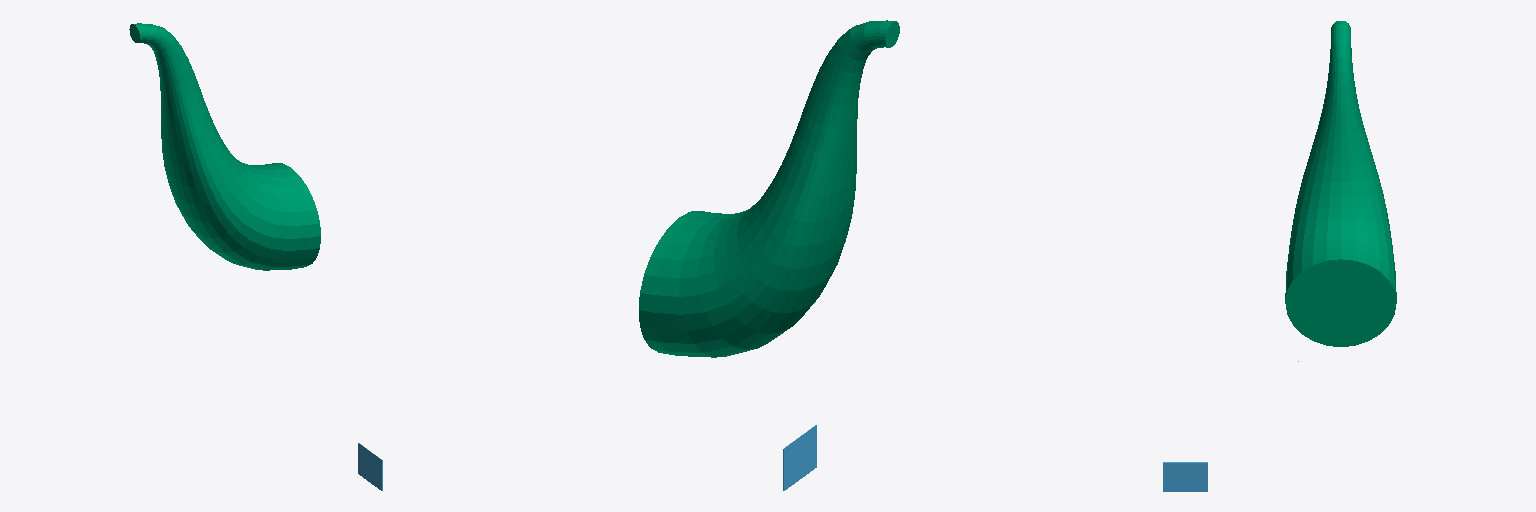
robot.urdf — partnet_c3bb5f3c842a6c2d178e7d331e641179:
<?xml version="1.0" ?>
<robot name="partnet_c3bb5f3c842a6c2d178e7d331e641179">
	<link name="microwave_base"/>
	<link name="microwave_door">
		<visual name="door_frame-6">
			<origin xyz="0.6430403380134146 0.42593899369239807 -0.5477944794777341"/>
			<geometry>
				<mesh filename="textured_objs/original-1.obj"/>
			</geometry>
		</visual>
		<visual name="door_frame-6">
			<origin xyz="0.6430403380134146 0.42593899369239807 -0.5477944794777341"/>
			<geometry>
				<mesh filename="textured_objs/original-8.obj"/>
			</geometry>
		</visual>
		<visual name="door_frame-6">
			<origin xyz="0.6430403380134146 0.42593899369239807 -0.5477944794777341"/>
			<geometry>
				<mesh filename="textured_objs/original-16.obj"/>
			</geometry>
		</visual>
		<visual name="door_frame-6">
			<origin xyz="0.6430403380134146 0.42593899369239807 -0.5477944794777341"/>
			<geometry>
				<mesh filename="textured_objs/original-9.obj"/>
			</geometry>
		</visual>
		<visual name="door_frame-6">
			<origin xyz="0.6430403380134146 0.42593899369239807 -0.5477944794777341"/>
			<geometry>
				<mesh filename="textured_objs/original-10.obj"/>
			</geometry>
		</visual>
		<visual name="door_frame-6">
			<origin xyz="0.6430403380134146 0.42593899369239807 -0.5477944794777341"/>
			<geometry>
				<mesh filename="textured_objs/original-11.obj"/>
			</geometry>
		</visual>
		<visual name="door_frame-6">
			<origin xyz="0.6430403380134146 0.42593899369239807 -0.5477944794777341"/>
			<geometry>
				<mesh filename="textured_objs/original-12.obj"/>
			</geometry>
		</visual>
		<visual name="door_frame-6">
			<origin xyz="0.6430403380134146 0.42593899369239807 -0.5477944794777341"/>
			<geometry>
				<mesh filename="textured_objs/original-13.obj"/>
			</geometry>
		</visual>
		<visual name="door_frame-6">
			<origin xyz="0.6430403380134146 0.42593899369239807 -0.5477944794777341"/>
			<geometry>
				<mesh filename="textured_objs/original-14.obj"/>
			</geometry>
		</visual>
		<visual name="door_frame-6">
			<origin xyz="0.6430403380134146 0.42593899369239807 -0.5477944794777341"/>
			<geometry>
				<mesh filename="textured_objs/original-15.obj"/>
			</geometry>
		</visual>
		<visual name="door_frame-6">
			<origin xyz="0.6430403380134146 0.42593899369239807 -0.5477944794777341"/>
			<geometry>
				<mesh filename="textured_objs/original-3.obj"/>
			</geometry>
		</visual>
		<visual name="glass-7">
			<origin xyz="0.6430403380134146 0.42593899369239807 -0.5477944794777341"/>
			<geometry>
				<mesh filename="textured_objs/original-6.obj"/>
			</geometry>
		</visual>
		<collision>
			<origin xyz="0.6430403380134146 0.42593899369239807 -0.5477944794777341"/>
			<geometry>
				<mesh filename="textured_objs/original-1.obj"/>
			</geometry>
		</collision>
		<collision>
			<origin xyz="0.6430403380134146 0.42593899369239807 -0.5477944794777341"/>
			<geometry>
				<mesh filename="textured_objs/original-8.obj"/>
			</geometry>
		</collision>
		<collision>
			<origin xyz="0.6430403380134146 0.42593899369239807 -0.5477944794777341"/>
			<geometry>
				<mesh filename="textured_objs/original-16.obj"/>
			</geometry>
		</collision>
		<collision>
			<origin xyz="0.6430403380134146 0.42593899369239807 -0.5477944794777341"/>
			<geometry>
				<mesh filename="textured_objs/original-9.obj"/>
			</geometry>
		</collision>
		<collision>
			<origin xyz="0.6430403380134146 0.42593899369239807 -0.5477944794777341"/>
			<geometry>
				<mesh filename="textured_objs/original-10.obj"/>
			</geometry>
		</collision>
		<collision>
			<origin xyz="0.6430403380134146 0.42593899369239807 -0.5477944794777341"/>
			<geometry>
				<mesh filename="textured_objs/original-11.obj"/>
			</geometry>
		</collision>
		<collision>
			<origin xyz="0.6430403380134146 0.42593899369239807 -0.5477944794777341"/>
			<geometry>
				<mesh filename="textured_objs/original-12.obj"/>
			</geometry>
		</collision>
		<collision>
			<origin xyz="0.6430403380134146 0.42593899369239807 -0.5477944794777341"/>
			<geometry>
				<mesh filename="textured_objs/original-13.obj"/>
			</geometry>
		</collision>
		<collision>
			<origin xyz="0.6430403380134146 0.42593899369239807 -0.5477944794777341"/>
			<geometry>
				<mesh filename="textured_objs/original-14.obj"/>
			</geometry>
		</collision>
		<collision>
			<origin xyz="0.6430403380134146 0.42593899369239807 -0.5477944794777341"/>
			<geometry>
				<mesh filename="textured_objs/original-15.obj"/>
			</geometry>
		</collision>
		<collision>
			<origin xyz="0.6430403380134146 0.42593899369239807 -0.5477944794777341"/>
			<geometry>
				<mesh filename="textured_objs/original-3.obj"/>
			</geometry>
		</collision>
		<collision>
			<origin xyz="0.6430403380134146 0.42593899369239807 -0.5477944794777341"/>
			<geometry>
				<mesh filename="textured_objs/original-6.obj"/>
			</geometry>
		</collision>
		<collision>
			<origin xyz="0.6430403380134146 0.42593899369239807 -0.5477944794777341"/>
			<geometry>
				<mesh filename="textured_objs/original-18.obj"/>
			</geometry>
		</collision>
		<collision>
			<origin xyz="0.6430403380134146 0.42593899369239807 -0.5477944794777341"/>
			<geometry>
				<mesh filename="textured_objs/original-20.obj"/>
			</geometry>
		</collision>
		<collision>
			<origin xyz="0.6430403380134146 0.42593899369239807 -0.5477944794777341"/>
			<geometry>
				<mesh filename="textured_objs/original-19.obj"/>
			</geometry>
		</collision>
	</link>
	<joint name="joint_0" type="revolute">
		<origin xyz="-0.6430403380134146 -0.42593899369239807 0.5477944794777341"/>
		<axis xyz="0 -1 0"/>
		<child link="microwave_door"/>
		<parent link="microwave_body"/>
		<limit lower="0.0" upper="1.5707963267948966"/>
	</joint>
	<link name="microwave_body">
		<visual name="frame-2">
			<origin xyz="0 0 0"/>
			<geometry>
				<mesh filename="textured_objs/original-4.obj"/>
			</geometry>
		</visual>
		<visual name="frame-2">
			<origin xyz="0 0 0"/>
			<geometry>
				<mesh filename="textured_objs/original-2.obj"/>
			</geometry>
		</visual>
		<visual name="display_panel-5">
			<origin xyz="0 0 0"/>
			<geometry>
				<mesh filename="textured_objs/original-5.obj"/>
			</geometry>
		</visual>
		<collision>
			<origin xyz="0 0 0"/>
			<geometry>
				<mesh filename="textured_objs/original-4.obj"/>
			</geometry>
		</collision>
		<collision>
			<origin xyz="0 0 0"/>
			<geometry>
				<mesh filename="textured_objs/original-2.obj"/>
			</geometry>
		</collision>
		<collision>
			<origin xyz="0 0 0"/>
			<geometry>
				<mesh filename="textured_objs/original-5.obj"/>
			</geometry>
		</collision>
	</link>
  <link name="microwave_handle">
		<visual name="handle-8">
			<origin xyz="0.6430403380134146 0.42593899369239807 -0.5477944794777341"/>
			<geometry>
				<mesh filename="textured_objs/original-18.obj"/>
			</geometry>
		</visual>
		<visual name="handle-8">
			<origin xyz="0.6430403380134146 0.42593899369239807 -0.5477944794777341"/>
			<geometry>
				<mesh filename="textured_objs/original-20.obj"/>
			</geometry>
		</visual>
		<visual name="handle-8">
			<origin xyz="0.6430403380134146 0.42593899369239807 -0.5477944794777341"/>
			<geometry>
				<mesh filename="textured_objs/original-19.obj"/>
			</geometry>
		</visual>

  </link>
  <joint name="joint_handle" type="fixed">
		<origin rpy="0 0 0 " xyz="0 0 0"/>
		<child link="microwave_handle"/>
		<parent link="microwave_door"/>
  </joint>
	<joint name="joint_1" type="fixed">
		<origin rpy="1.570796326794897 0 -1.570796326794897" xyz="0 0 0"/>
		<child link="microwave_body"/>
		<parent link="microwave_base"/>
	</joint>
</robot>

--- Render facts (derived) ---
The picture shows the robot from 3 angles, left to right: view 1: azimuth 30°, elevation 25°; view 2: azimuth 150°, elevation 25°; view 3: azimuth 270°, elevation 25°; orthographic projection.
Model partnet_c3bb5f3c842a6c2d178e7d331e641179 with 4 links and 3 joints (1 revolute, 2 fixed), rooted at microwave_base, posed every joint at zero.
Links seen in each view (by area): view 1: microwave_body, microwave_door; view 2: microwave_body, microwave_door; view 3: microwave_body, microwave_door.
Link boxes in pixels (box(x1,y1,x2,y2)): microwave_body: box(129, 23, 320, 270); microwave_door: box(358, 443, 382, 490); microwave_body: box(639, 20, 899, 357); microwave_door: box(783, 425, 816, 490); microwave_body: box(1285, 21, 1396, 346); microwave_door: box(1163, 361, 1298, 491).
Size in the robot's own frame: 0.4922 by 0.5875 by 1.12 metres.
4 mesh visuals loaded from 18 distinct referenced files (4 OBJ); not drawn: 14 (reference not matched to a file when rendering).